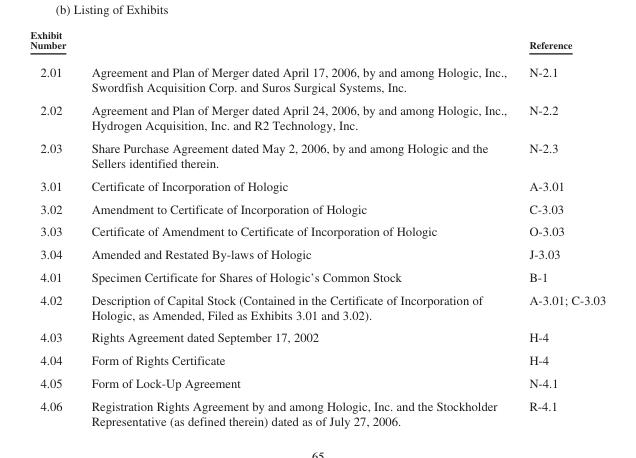table: (29, 28, 605, 427)
table column: (78, 28, 517, 427), (517, 28, 605, 427), (29, 28, 78, 427)
table column header: (29, 28, 605, 98)
table row: (29, 28, 605, 98), (29, 98, 605, 136), (29, 136, 605, 174), (29, 287, 605, 325), (29, 393, 605, 427), (29, 196, 605, 219), (29, 219, 605, 242), (29, 242, 605, 265), (29, 325, 605, 348), (29, 348, 605, 371), (29, 174, 605, 196), (29, 265, 605, 287), (29, 371, 605, 393)
